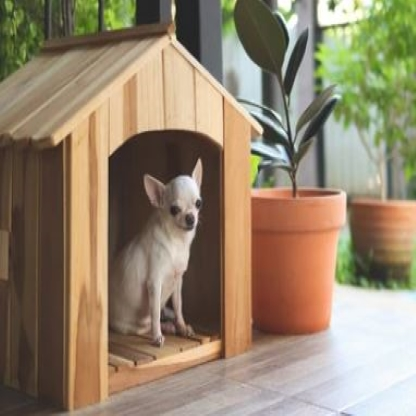chihuahua: (111, 155, 206, 346)
